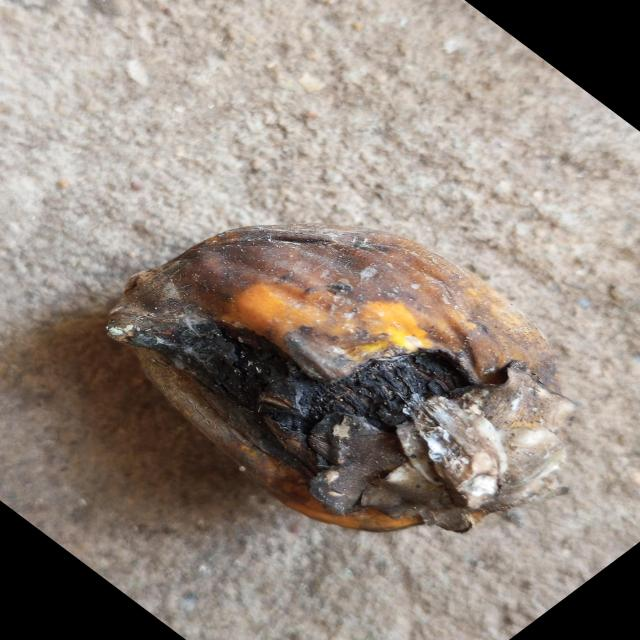Mahali_Koleroga: (128, 250, 560, 521)
